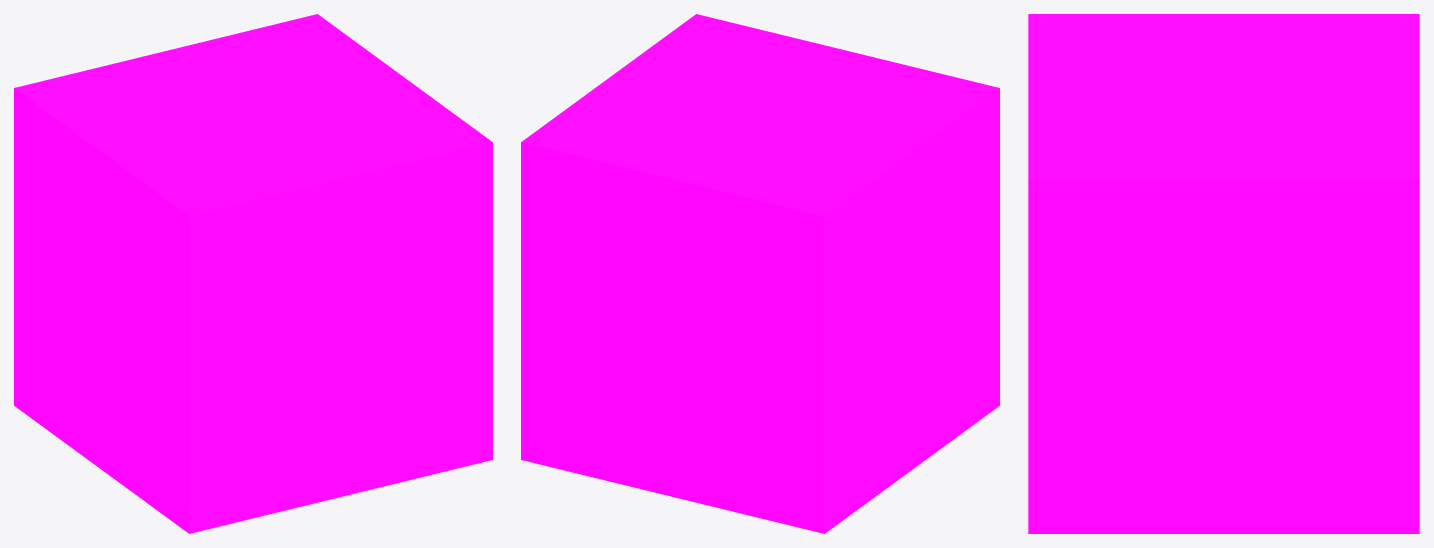
Rendered from tu-modelo.glb.
3 views of the same model, side by side, from view 1: azimuth 30°, elevation 25°; view 2: azimuth 150°, elevation 25°; view 3: azimuth 270°, elevation 25° (orthographic). The views are drawn at different scales.
Visible parts, largest first — view 1: Cube; view 2: Cube; view 3: Cube.
Boxes of the visible parts, x1,y1,x2,y2 form: Cube: (14, 14, 492, 533); Cube: (521, 14, 999, 533); Cube: (1028, 14, 1419, 533).
Bounding box in the file's own units: 2 × 2 × 2.
